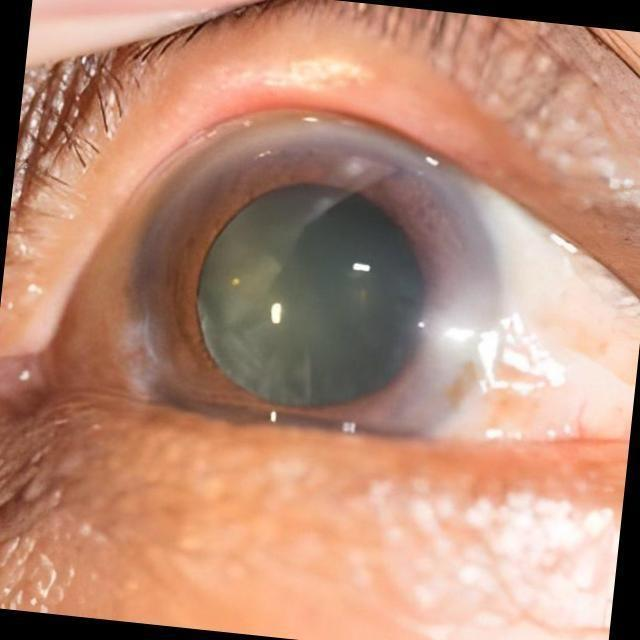Cataract: (140, 126, 480, 436)
